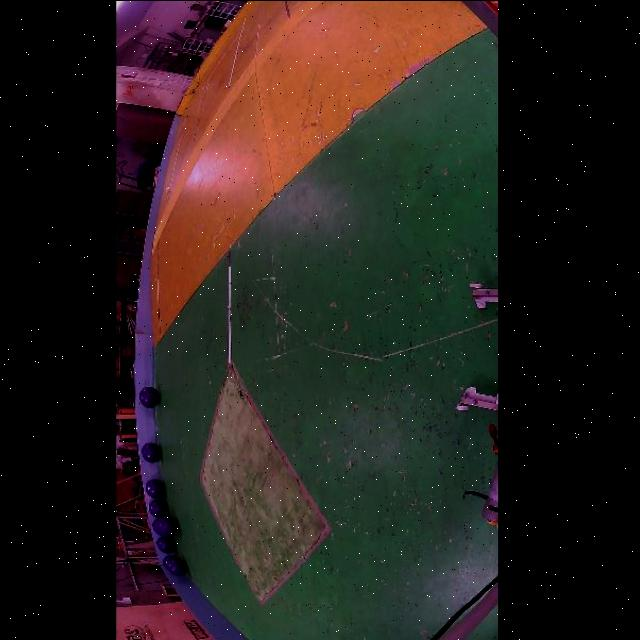P: (153, 515, 179, 536), (140, 386, 160, 407), (141, 442, 161, 462), (145, 479, 165, 498), (168, 557, 188, 575), (149, 499, 168, 516), (156, 536, 176, 552), (163, 555, 176, 568)
